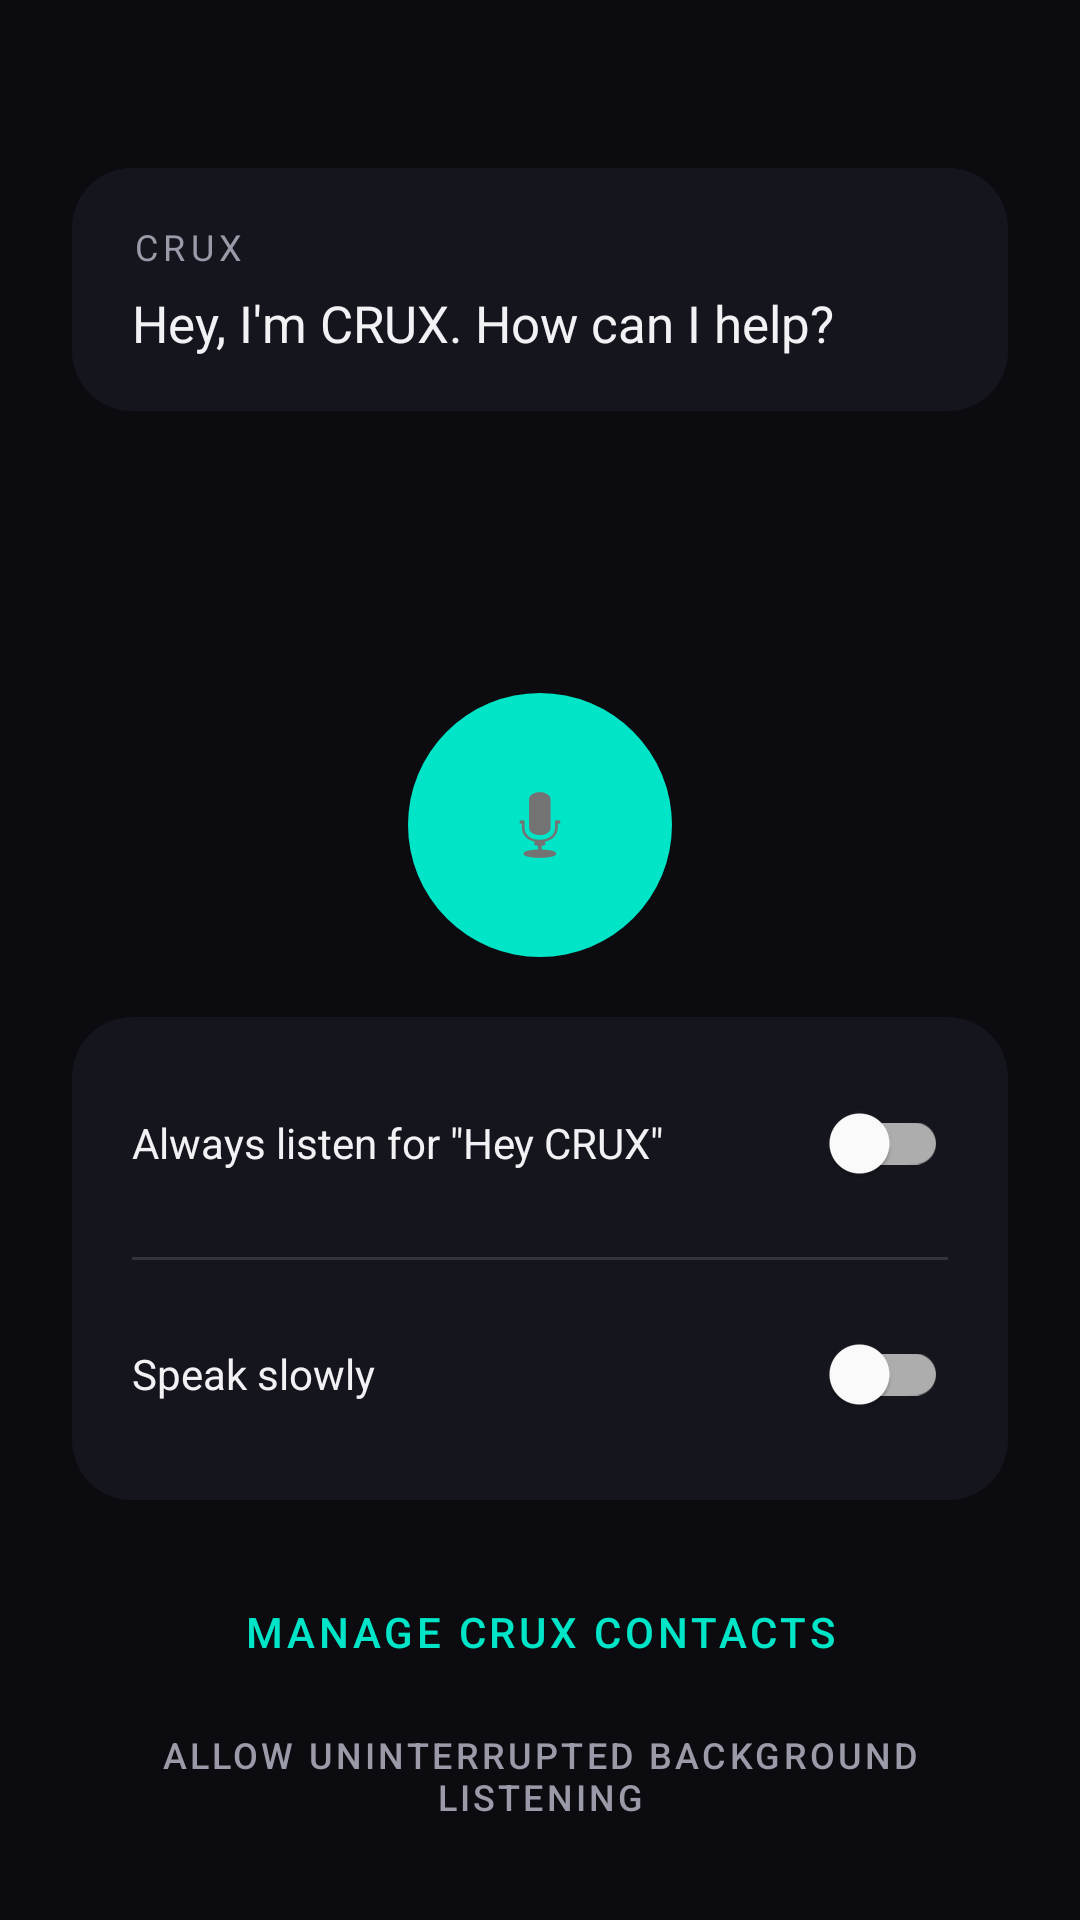

Icons on this 1080×1920 Android screen, each with the point to tap as (x,y):
Tap to speak to CRUX: (540,825)
